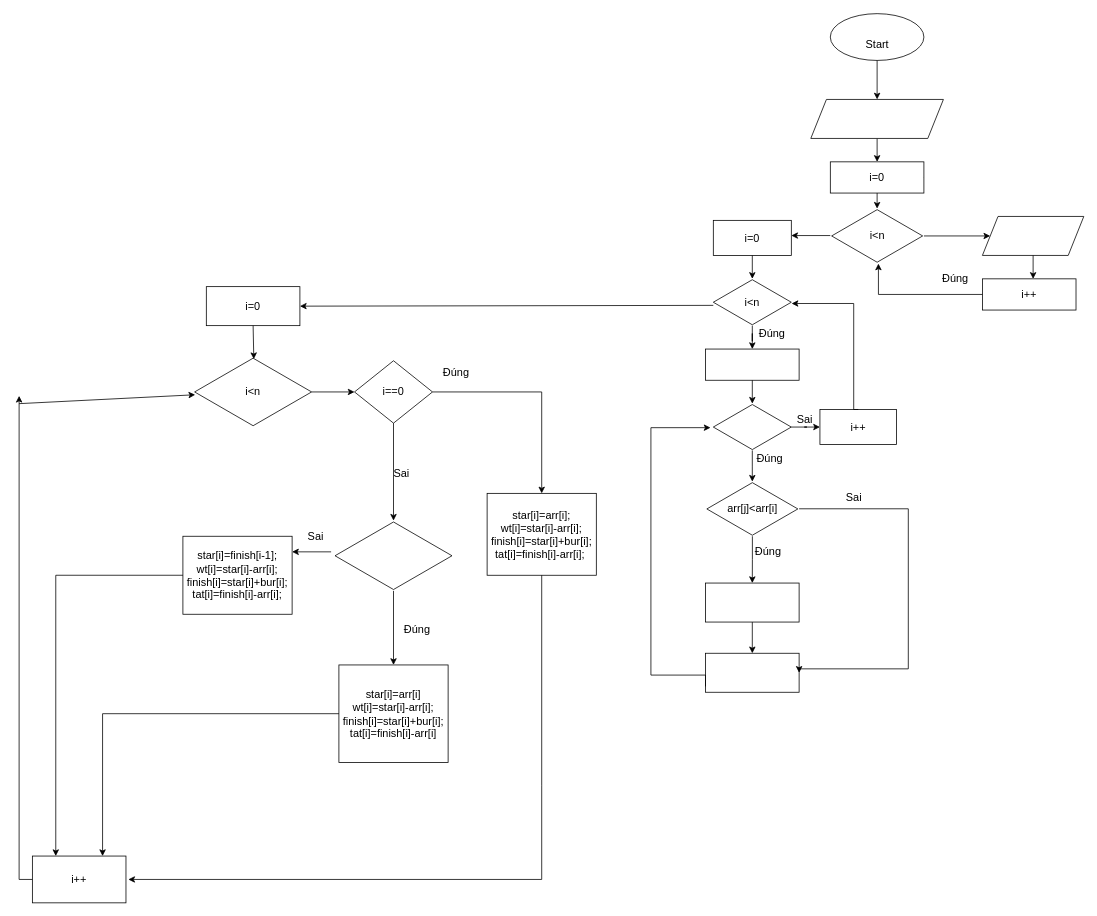
Image size: 1097x916. Some labels were removed from this diagram. The box of each missing label's shape, as (x1, y1, x2, y2) in pixels:
arr[i]>arr[i-1]: (334, 520, 452, 591)
j++: (705, 652, 799, 692)
j<i: (713, 403, 791, 450)
j=0: (705, 348, 799, 380)
Nhập các số liệu của i: (982, 216, 1084, 255)
Nhập số process n: (810, 99, 943, 138)
Swap(pn[j],pn[i]): (705, 582, 799, 622)
